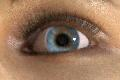eye: (46, 27, 79, 52)
